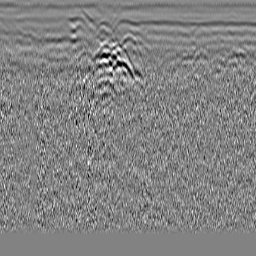cavity: (120, 30, 137, 49)
